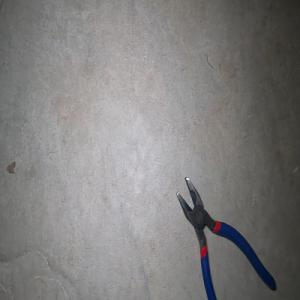Pliers: (176, 176, 276, 300)
